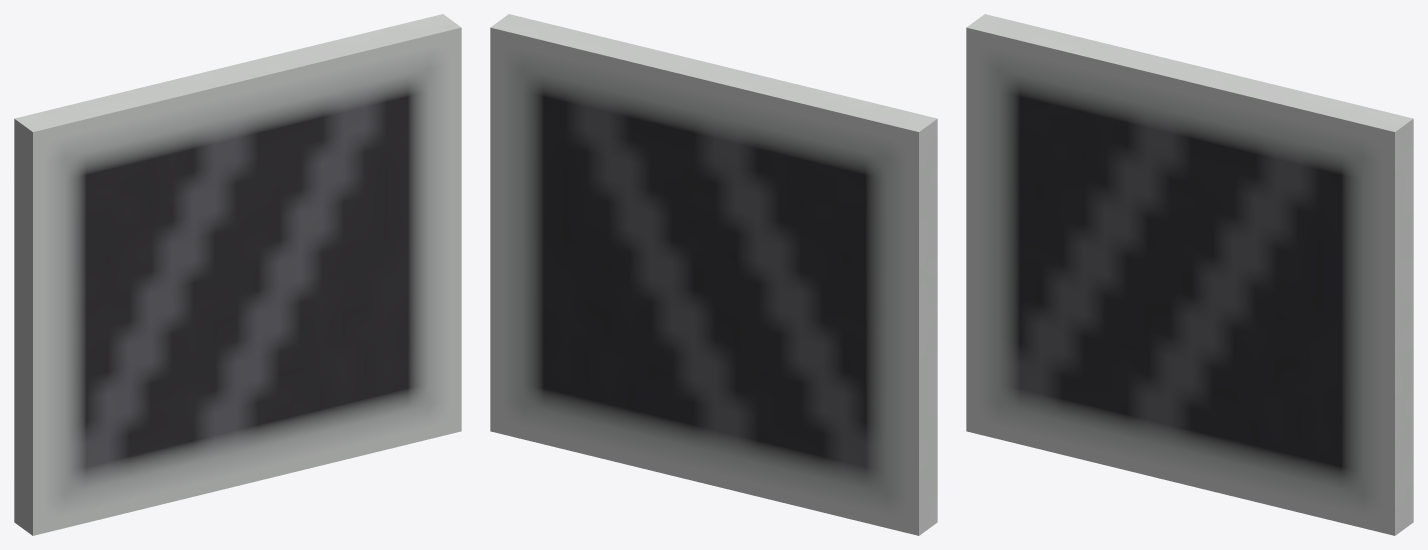
The model's file is era4_disk_bank_lid_double_sided.obj.
3 views of the same model, side by side, from view 1: azimuth 30°, elevation 25°; view 2: azimuth 150°, elevation 25°; view 3: azimuth 330°, elevation 25° (orthographic).
Parts seen in each view (by area): view 1: era4_disk_bank; view 2: era4_disk_bank; view 3: era4_disk_bank.
Part boxes in pixels (bbox=[...]): era4_disk_bank: bbox=[14, 14, 461, 535]; era4_disk_bank: bbox=[490, 14, 937, 535]; era4_disk_bank: bbox=[966, 14, 1413, 535].
Bounding box in the file's own units: 1.25 × 1.12 × 0.0938.
